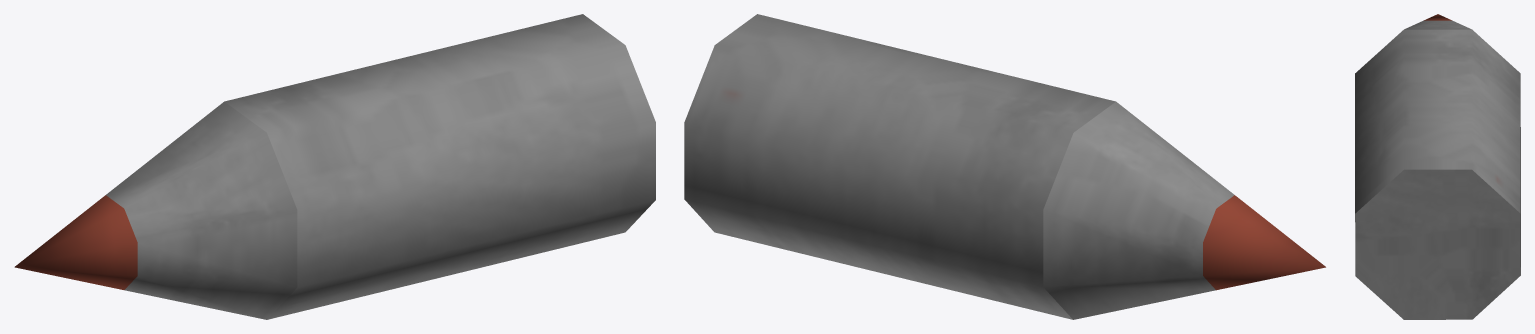
Rendered from Bullet.fbx.
3 views of the same model, side by side, from view 1: azimuth 30°, elevation 25°; view 2: azimuth 150°, elevation 25°; view 3: azimuth 270°, elevation 25° (orthographic). The views are drawn at different scales.
Visible parts, largest first — view 1: Bullet; view 2: Bullet; view 3: Bullet.
Part boxes in pixels (x1=…): Bullet: x1=14, y1=14, x2=655, y2=319; Bullet: x1=684, y1=14, x2=1325, y2=319; Bullet: x1=1355, y1=14, x2=1520, y2=319.
Size of the model in its own units: 0.0739 by 0.0224 by 0.0224.
1 material, 1 textured.
